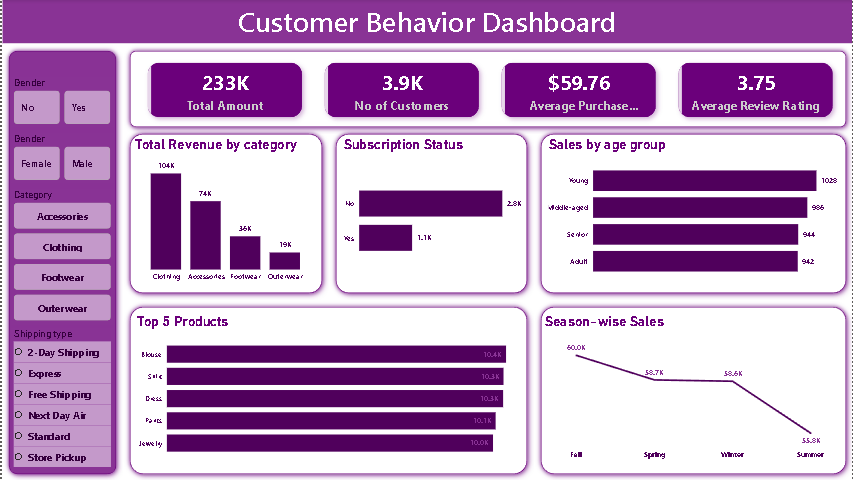

What the dashboard file says about the page in this screenshot:
{"tool":"powerbi","page":{"name":"Page 1","canvas":[1500,850],"ordinal":0},"visuals":[{"type":"shape","box":[213.4,530.8,724.8,319.2],"z":0},{"type":"shape","box":[938.2,530.8,562.6,319.2],"z":1000},{"type":"shape","box":[938.2,225.7,562.6,305.1],"z":2000},{"type":"shape","box":[576.7,225.7,361.5,305.1],"z":3000},{"type":"shape","box":[213.4,225.7,363.3,305.1],"z":4000},{"type":"barChart","title":"Subscription Status","fields":{"Category":["public customer.subscription_status"],"Y":["CountNonNull(public customer.customer_id)"]},"box":[597.8,243.4,326.2,262.8],"z":5000},{"type":"columnChart","title":"Total Revenue by category","fields":{"Category":["public customer.category"],"Y":["Sum(public customer.purchase_amount)"]},"box":[229.3,243.4,331.5,262.8],"z":6000},{"type":"textbox","box":[0,0,1500.7,79.4],"z":7000},{"type":"shape","box":[0,79.4,213.4,770.6],"z":8000},{"type":"advancedSlicerVisual","title":"Category","fields":{"Values":["public customer.category"]},"box":[15.9,335.1,181.6,239.8],"z":9000},{"type":"clusteredBarChart","title":"Sales by age group","fields":{"Y":["CountNonNull(public customer.customer_id)"],"Category":["public customer.age_group"]},"box":[959.3,243.4,520.2,262.8],"z":10000},{"type":"advancedSlicerVisual","title":"Gender","fields":{"Values":["public customer.subscription_status"]},"box":[15.9,137.6,181.6,88.2],"z":11000},{"type":"listSlicer","title":"Shipping type","fields":{"Values":["public customer.shipping_type"]},"box":[15.9,580.2,181.6,253.9],"z":12000},{"type":"shape","box":[213.4,79.4,1287.3,158.7],"z":13000},{"type":"cardVisual","fields":{"Data":["public customer.Total Amount","public customer.No of Customers","public customer.Average Purchase Amount","public customer.Average Review Rating"]},"box":[224,79.4,1276.8,162.2],"z":14000},{"type":"advancedSlicerVisual","title":"Gender","fields":{"Values":["public customer.gender"]},"box":[15.9,236.3,181.6,88.2],"z":15000},{"type":"lineChart","title":"Season-wise Sales","fields":{"Y":["public customer.Total Amount"],"Category":["public customer.season"]},"box":[952.3,555.5,534.3,264.5],"z":16000},{"type":"clusteredBarChart","title":"Top 5 Products","fields":{"Y":["Sum(public customer.purchase_amount)"],"Category":["public customer.item_purchased"]},"box":[232.8,555.5,691.3,264.5],"z":17000}]}

Visuals, with their boxes in screenshot pixels (x1, y1, x2, y2), scaled from the page's 1500x850 canvas onto the 853x480 screenshot:
shape: {"x1": 121, "y1": 300, "x2": 534, "y2": 479}
shape: {"x1": 534, "y1": 300, "x2": 852, "y2": 479}
shape: {"x1": 534, "y1": 127, "x2": 852, "y2": 300}
shape: {"x1": 328, "y1": 127, "x2": 534, "y2": 300}
shape: {"x1": 121, "y1": 127, "x2": 328, "y2": 300}
"Subscription Status" barChart: {"x1": 340, "y1": 137, "x2": 525, "y2": 286}
"Total Revenue by category" columnChart: {"x1": 130, "y1": 137, "x2": 319, "y2": 286}
textbox: {"x1": 0, "y1": 0, "x2": 852, "y2": 45}
shape: {"x1": 0, "y1": 45, "x2": 121, "y2": 479}
"Category" advancedSlicerVisual: {"x1": 9, "y1": 189, "x2": 112, "y2": 325}
"Sales by age group" clusteredBarChart: {"x1": 546, "y1": 137, "x2": 841, "y2": 286}
"Gender" advancedSlicerVisual: {"x1": 9, "y1": 78, "x2": 112, "y2": 128}
"Shipping type" listSlicer: {"x1": 9, "y1": 328, "x2": 112, "y2": 471}
shape: {"x1": 121, "y1": 45, "x2": 852, "y2": 134}
cardVisual - public customer.Total Amount x public customer.No of Customers: {"x1": 127, "y1": 45, "x2": 852, "y2": 136}
"Gender" advancedSlicerVisual: {"x1": 9, "y1": 133, "x2": 112, "y2": 183}
"Season-wise Sales" lineChart: {"x1": 542, "y1": 314, "x2": 845, "y2": 463}
"Top 5 Products" clusteredBarChart: {"x1": 132, "y1": 314, "x2": 526, "y2": 463}
